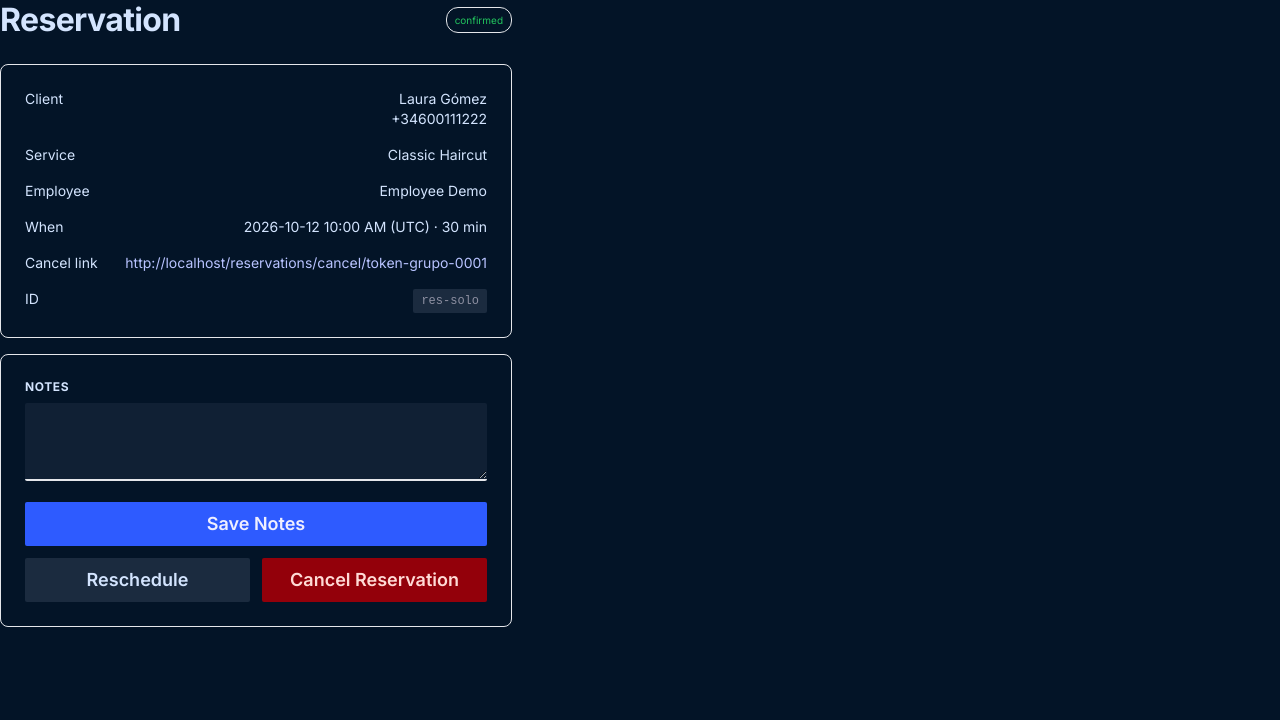
ReservationDetail (reprogramación, F4.7b) › reserva simple activa → botón Reprogramar abre el modal
Expected: the text "Laura Gómez" is shown, [399,90,487,107]
What coordinates should you click on to do the following:
click the button with test id "reschedule-open"
I would click on:
 (138, 580)
Its box is [25,558,250,602].
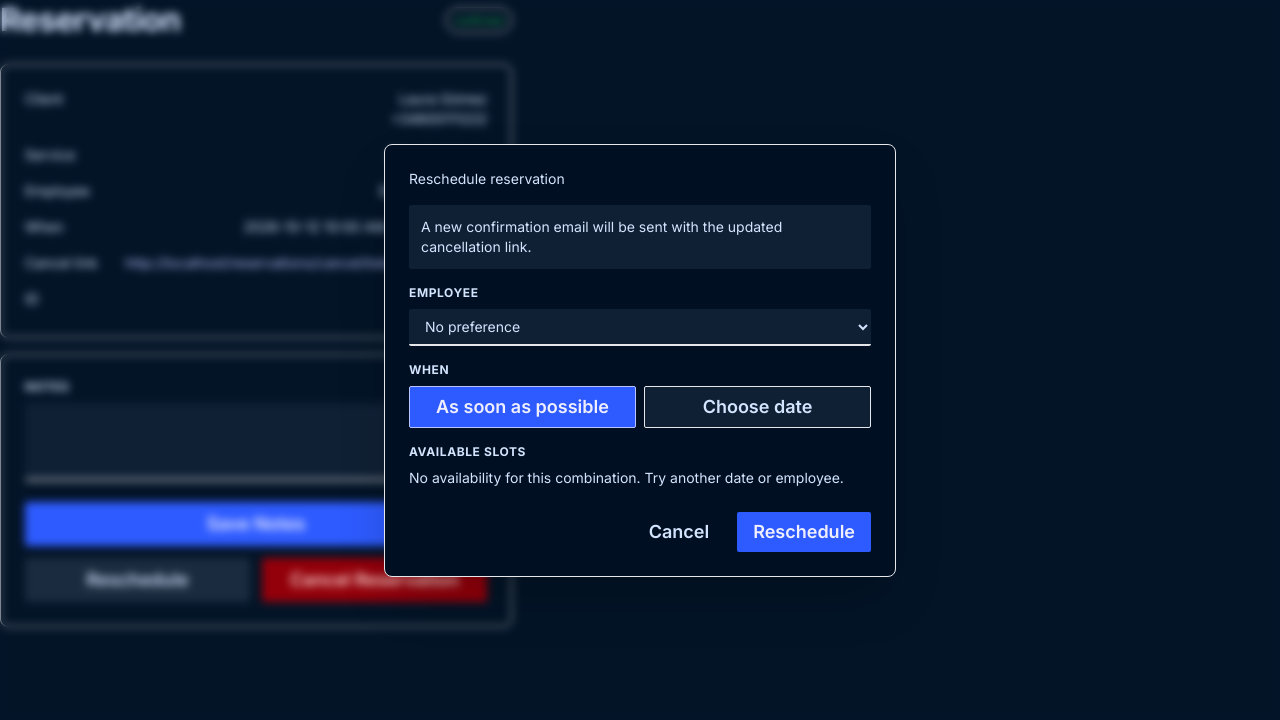
Expected: the text with test id "reschedule-token-warning" is shown, [409,204,871,268]
What coordinates should you click on to do the following:
click the button "Cancel"
I would click on:
 (679, 532)
Its box is [633,512,725,552].
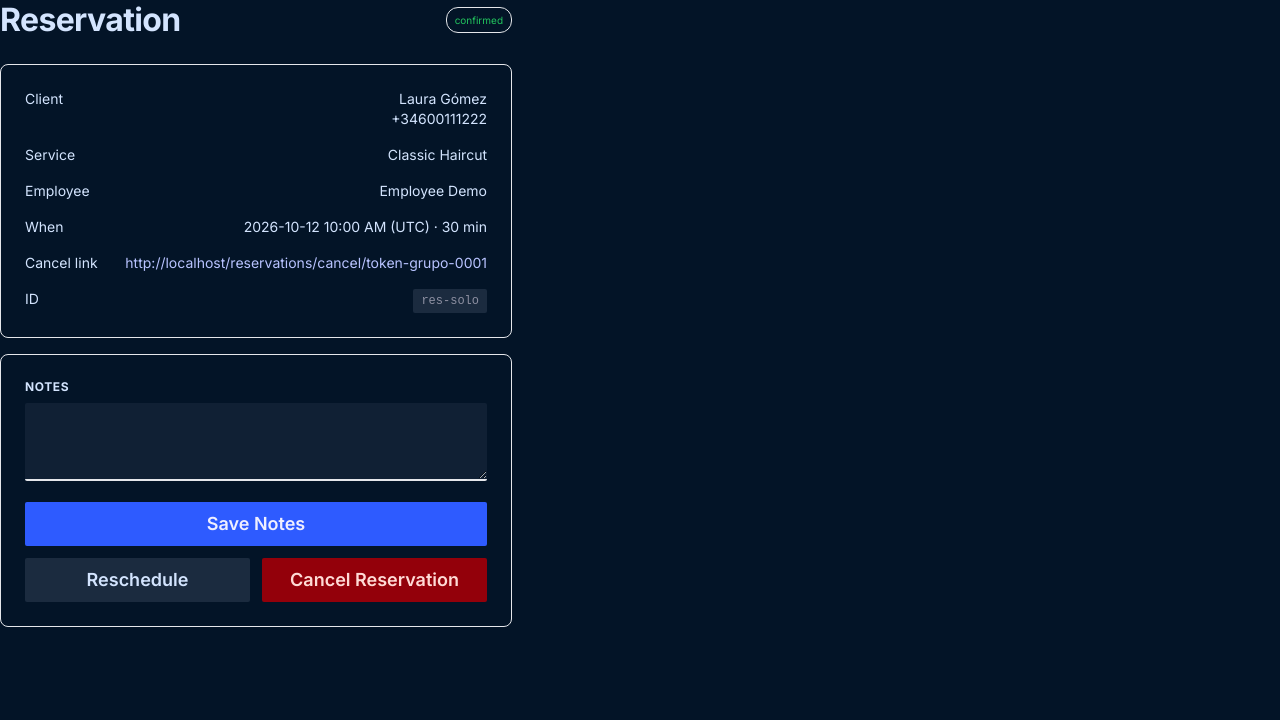
Expected: the dialog is gone
